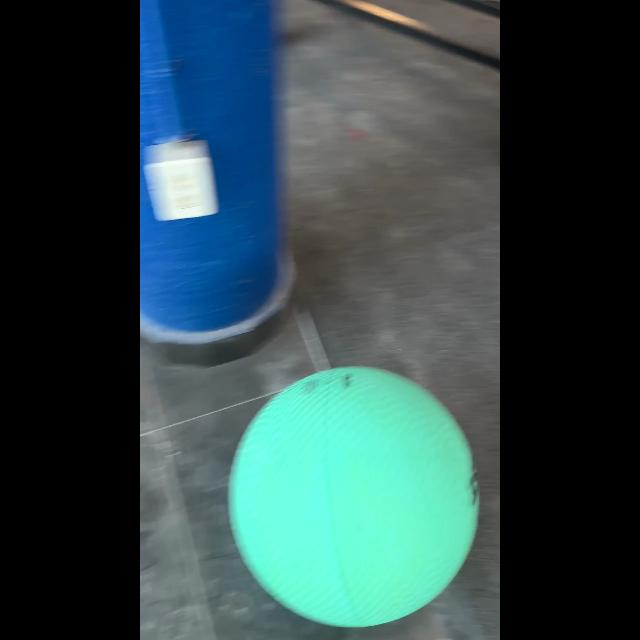ALGAE: (228, 364, 480, 628)
